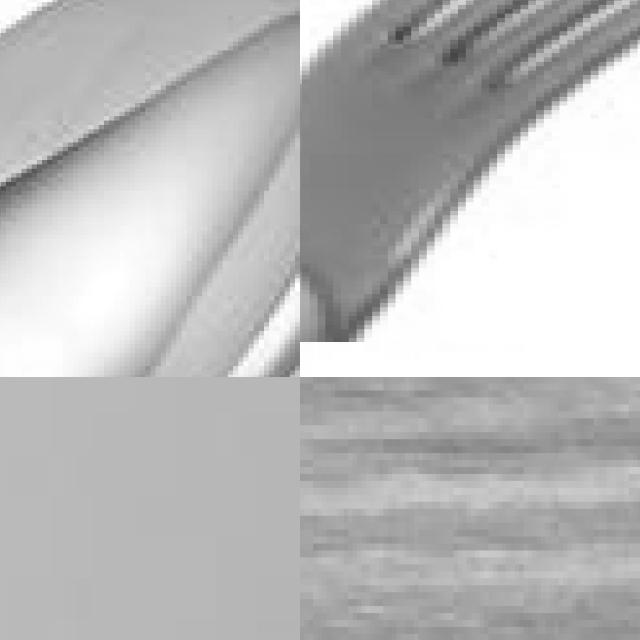forks: (300, 0, 640, 340)
spoons: (0, 0, 300, 377)
